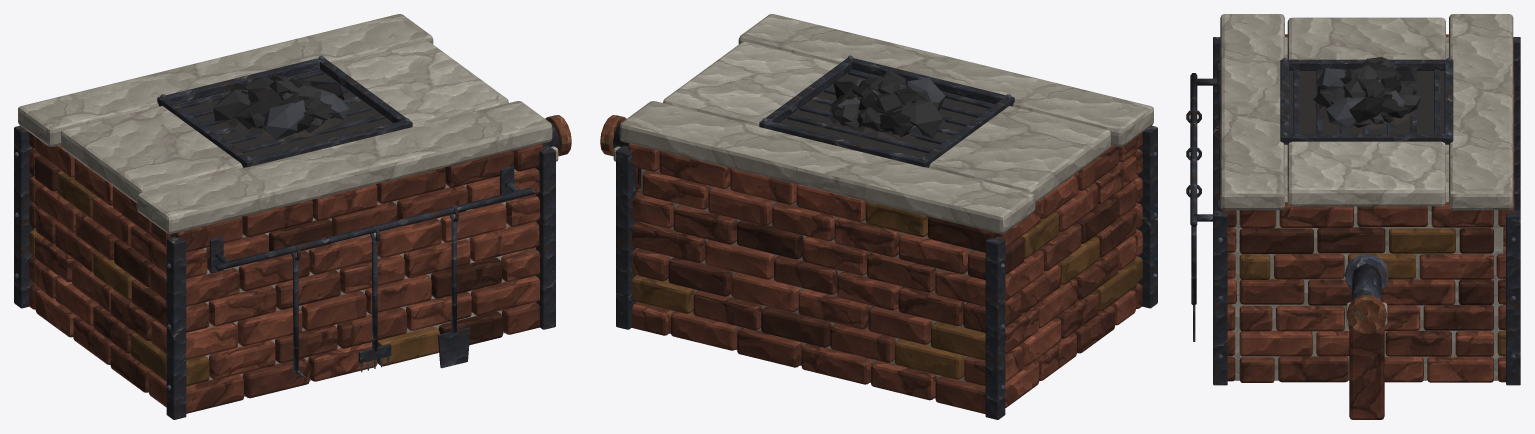
The model's file is ef_forge_hearth.glb.
The picture shows the model from 3 angles, left to right: view 1: azimuth 30°, elevation 25°; view 2: azimuth 150°, elevation 25°; view 3: azimuth 270°, elevation 25°; orthographic projection. The views are drawn at different scales.
Parts seen in each view (by area): view 1: model; view 2: model; view 3: model.
Boxes of the visible parts, x1,y1,x2,y2 form: model: (14,14,571,419); model: (600,14,1157,419); model: (1186,14,1520,419).
Size of the model in its own units: 1.78 by 0.8656 by 1.14.
Materials: 19 (12 with a texture image).
